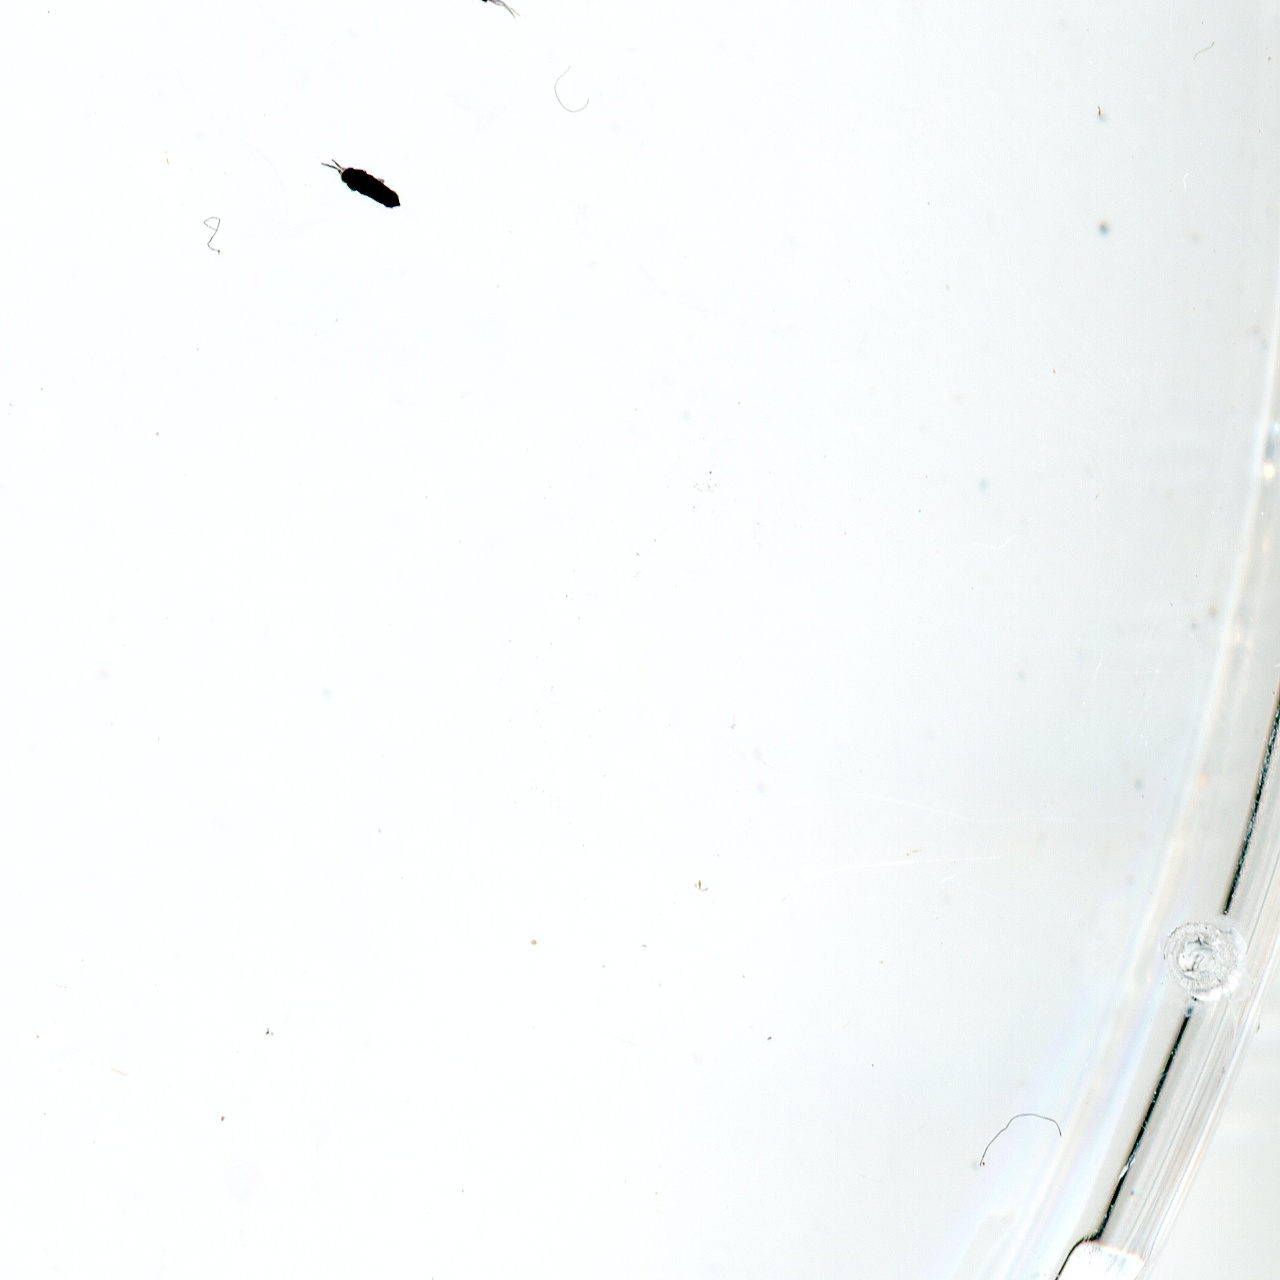arthropod: (305, 138, 442, 237), (435, 0, 530, 29)
